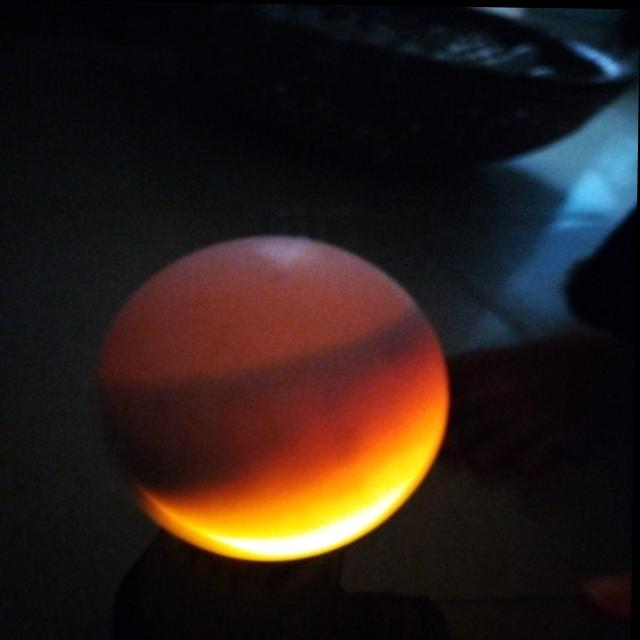Area Infectada: (97, 311, 431, 493)
